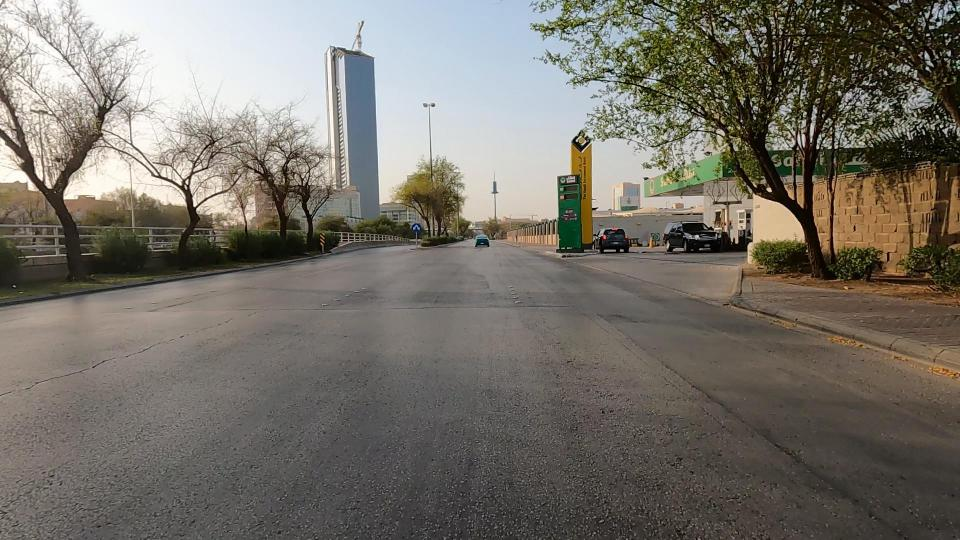POTHOLES: (596, 310, 783, 456), (534, 252, 682, 387)
